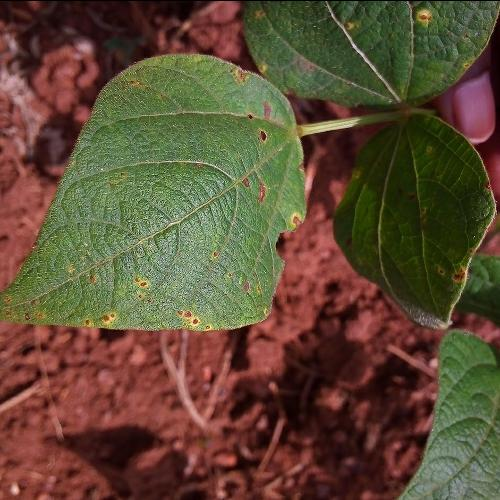hawar: (259, 204, 311, 272), (236, 90, 285, 150), (77, 302, 209, 324), (225, 168, 279, 208)
mozaik: (38, 86, 277, 326)
